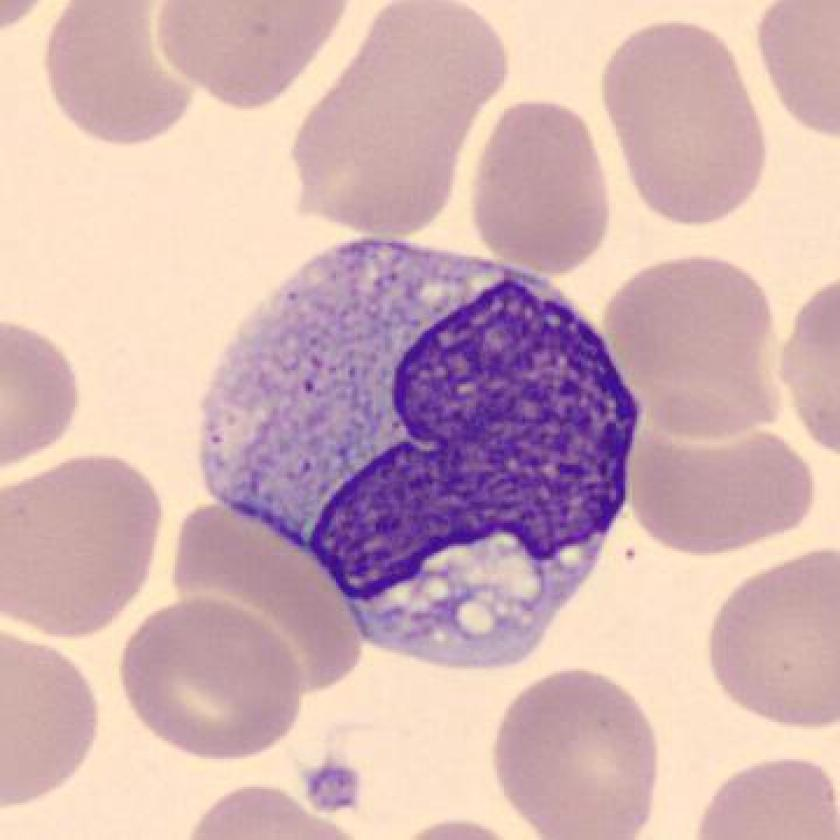monocyte: (178, 221, 666, 684)
